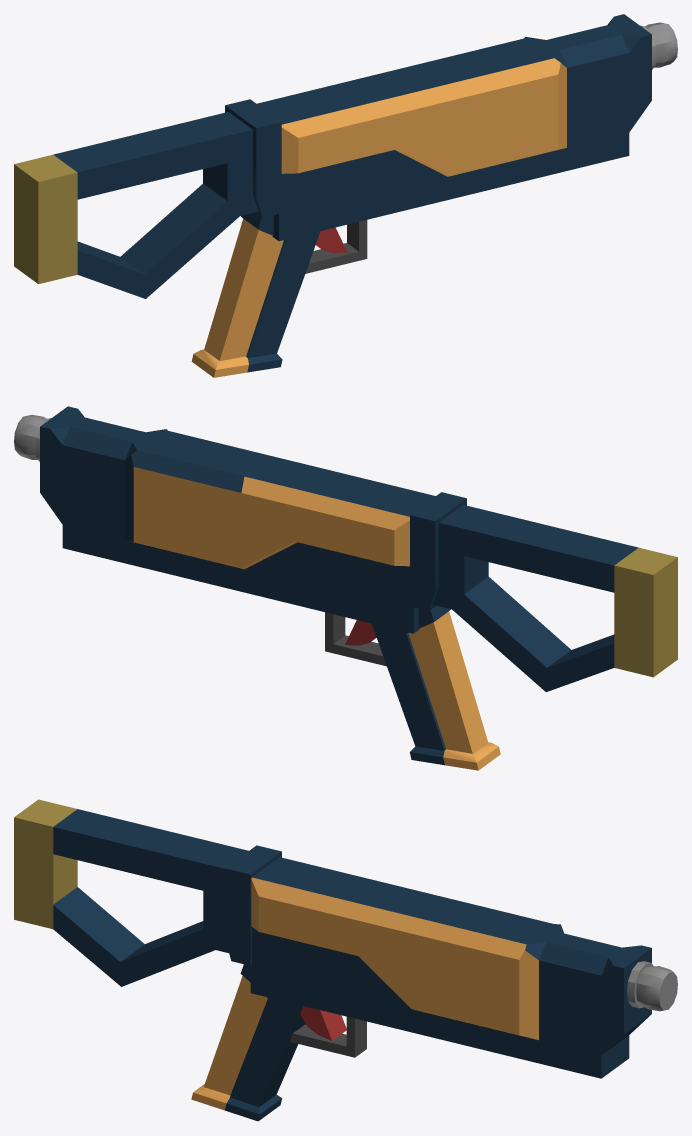
The model's file is GunPH.fbx.
The picture shows the model from 3 angles, top to bottom: view 1: azimuth 30°, elevation 25°; view 2: azimuth 150°, elevation 25°; view 3: azimuth 330°, elevation 25°; orthographic projection.
Visible parts, largest first — view 1: Cube.007; view 2: Cube.007; view 3: Cube.007.
Boxes of the visible parts, x1,y1,x2,y2 form: Cube.007: (14,14,677,377); Cube.007: (14,406,677,770); Cube.007: (14,799,677,1121).
Size of the model in its own units: 139 by 51.46 by 14.59.
